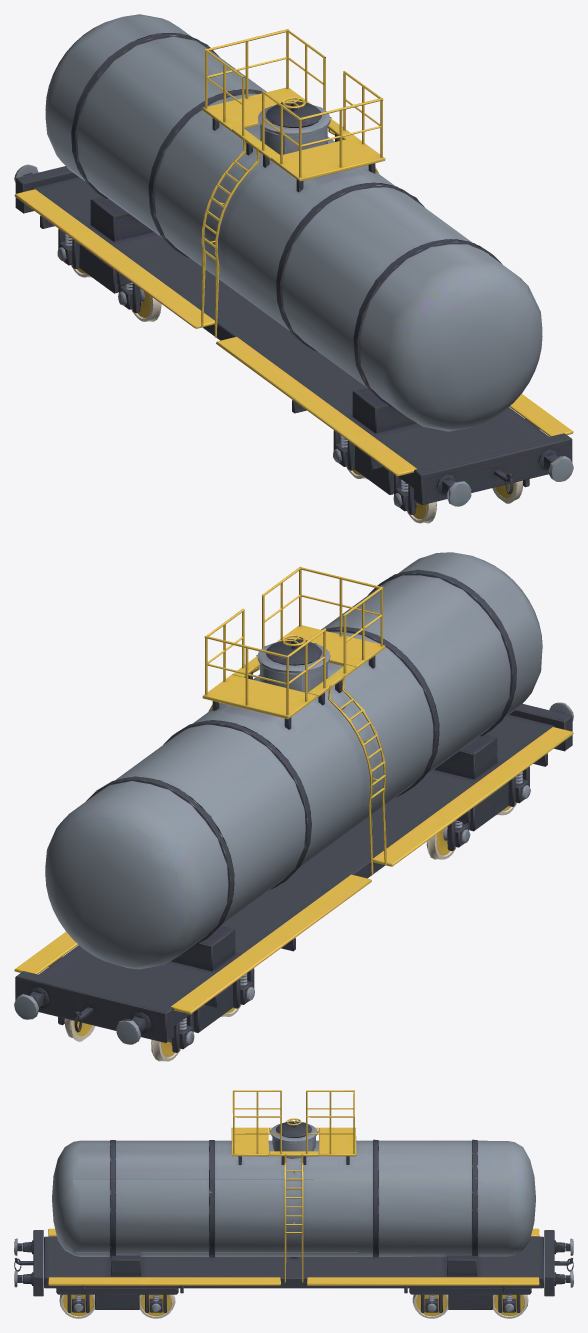
The model's file is vagon_cisterna.glb.
3 renders of one model, top to bottom at view 1: azimuth 30°, elevation 25°; view 2: azimuth 150°, elevation 25°; view 3: azimuth 270°, elevation 25°, orthographic. The views are drawn at different scales.
Visible parts, largest first — view 1: tank-car_body; view 2: tank-car_body; view 3: tank-car_body.
Part boxes in pixels (x1,y1,x2,y2): tank-car_body: (14,14,573,523); tank-car_body: (14,552,573,1061); tank-car_body: (14,1090,573,1318).
Bounding box in the file's own units: 3.04 × 5.15 × 13.
Materials: 1 (1 with a texture image).
